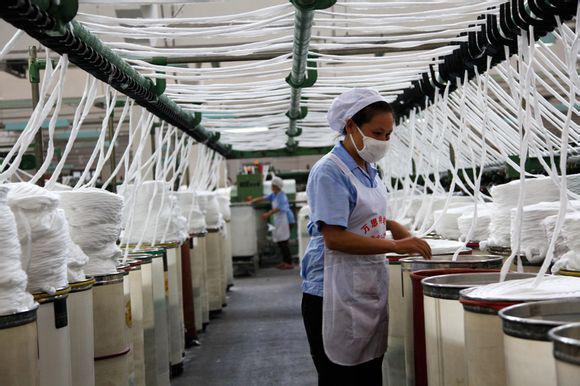OK: (350, 118, 392, 163)
